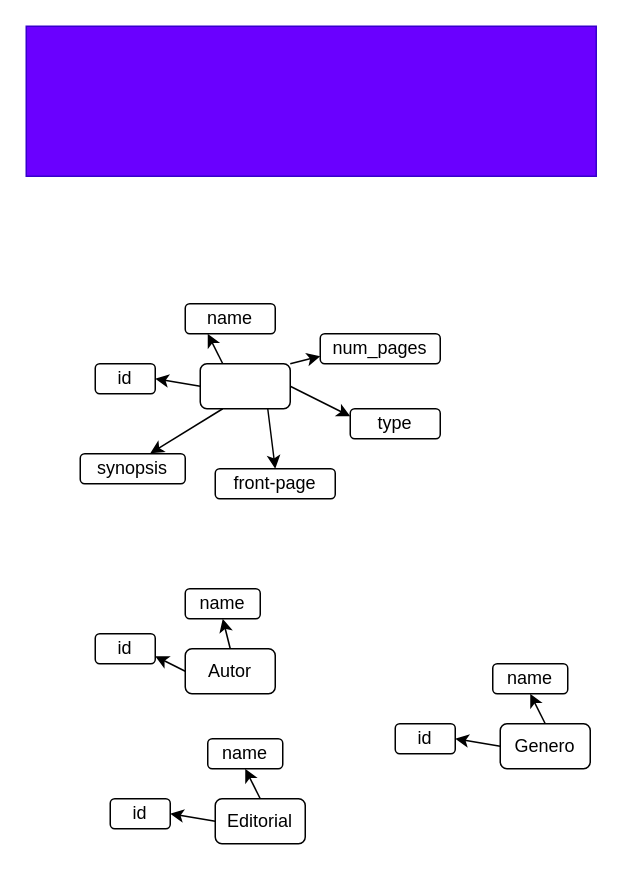
This 623x870 diagram has some shape labels left out. Here are the shapes that lost their labels. From the top down, the centre of each, then its label:
[310,100]: Entidades: heimblog
[244,385]: LIbro
